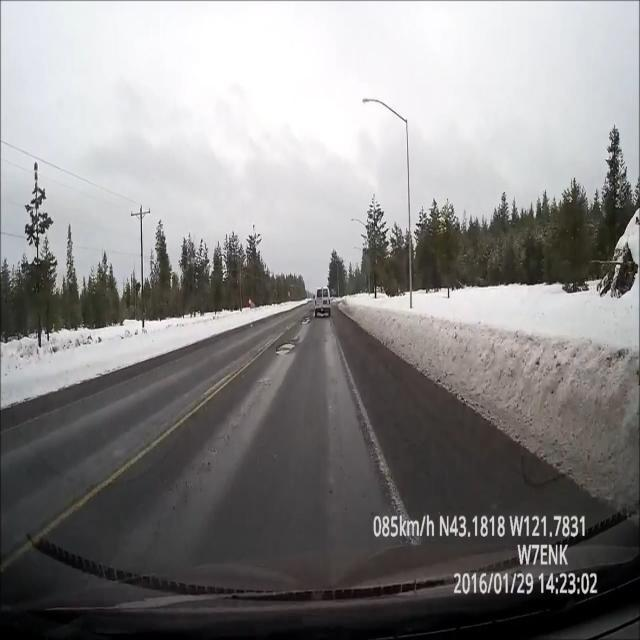Buraco: (272, 335, 304, 358), (298, 313, 314, 326)
